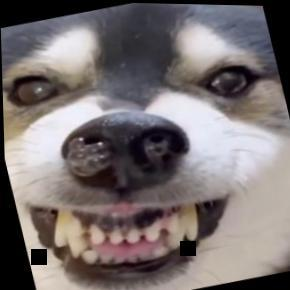nasal_discharge: (49, 95, 199, 200)
